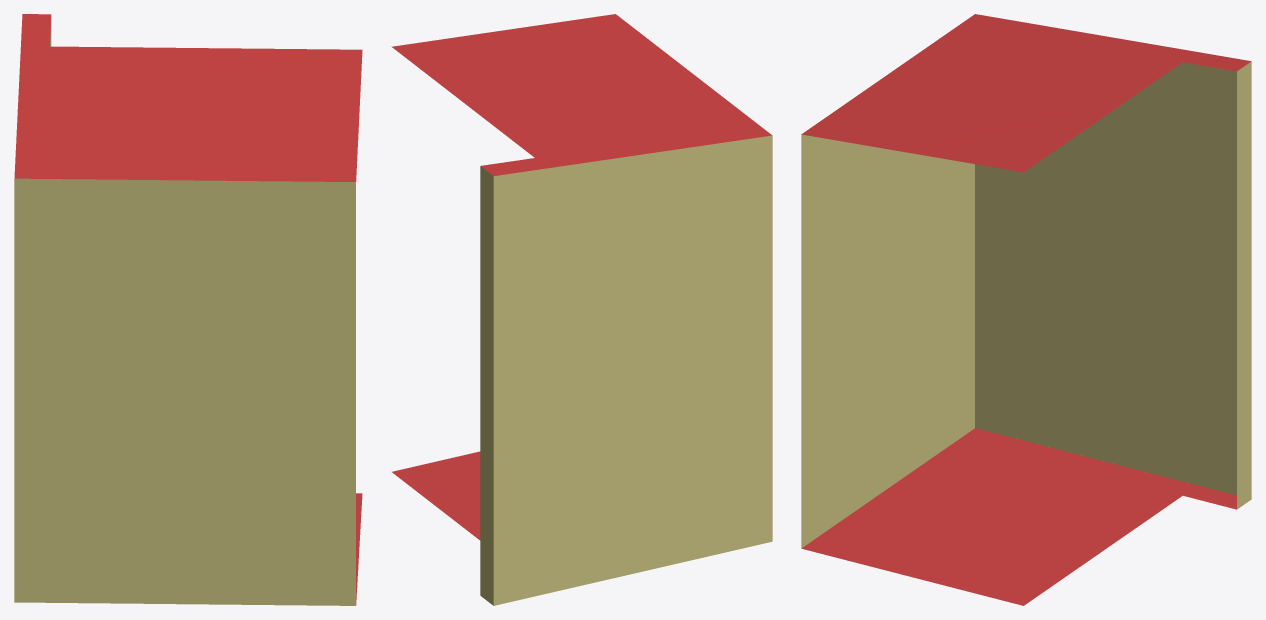
The picture shows the model from 3 angles, left to right: view 1: azimuth 30°, elevation 25°; view 2: azimuth 150°, elevation 25°; view 3: azimuth 270°, elevation 25°; orthographic projection. The views are drawn at different scales.
Parts seen in each view (by area): view 1: group_4, group_3; view 2: group_4, group_3, group_5; view 3: group_4, group_5, group_3.
Boxes of the visible parts, x1=… form: group_4: x1=14, y1=20, x2=355, y2=605; group_3: x1=14, y1=14, x2=362, y2=181; group_4: x1=480, y1=135, x2=772, y2=605; group_3: x1=391, y1=14, x2=772, y2=175; group_5: x1=392, y1=451, x2=480, y2=540; group_4: x1=801, y1=61, x2=1251, y2=548; group_5: x1=801, y1=428, x2=1236, y2=605; group_3: x1=801, y1=14, x2=1251, y2=172.
Size of the model in its own units: 7.76 by 8.31 by 8.91.
